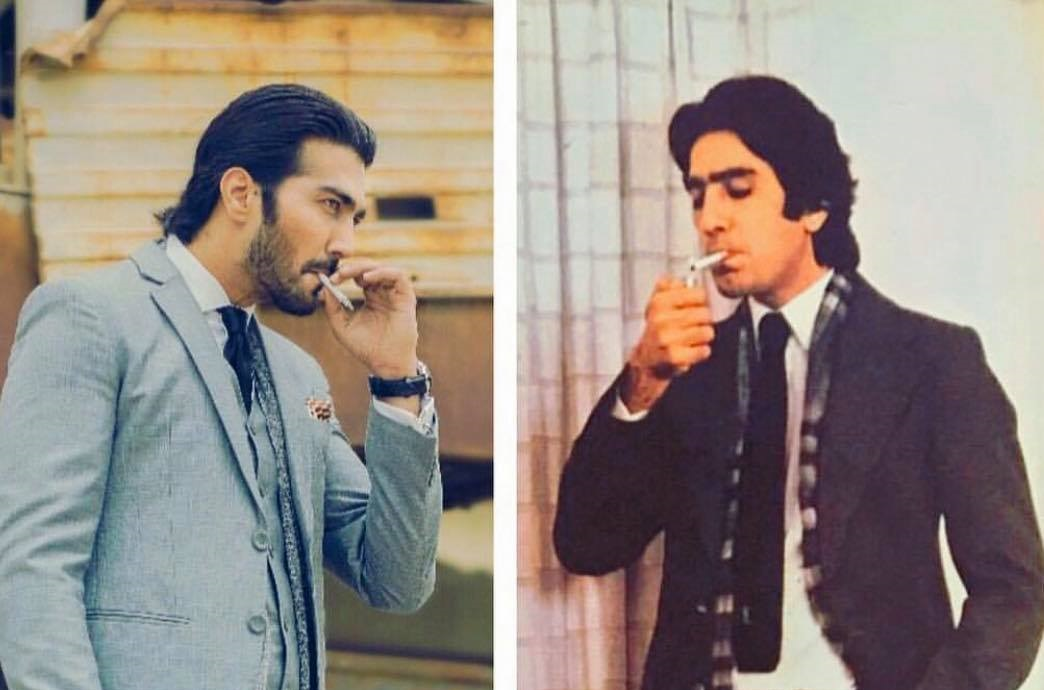NoMask: (266, 179, 367, 318), (689, 159, 787, 302)
